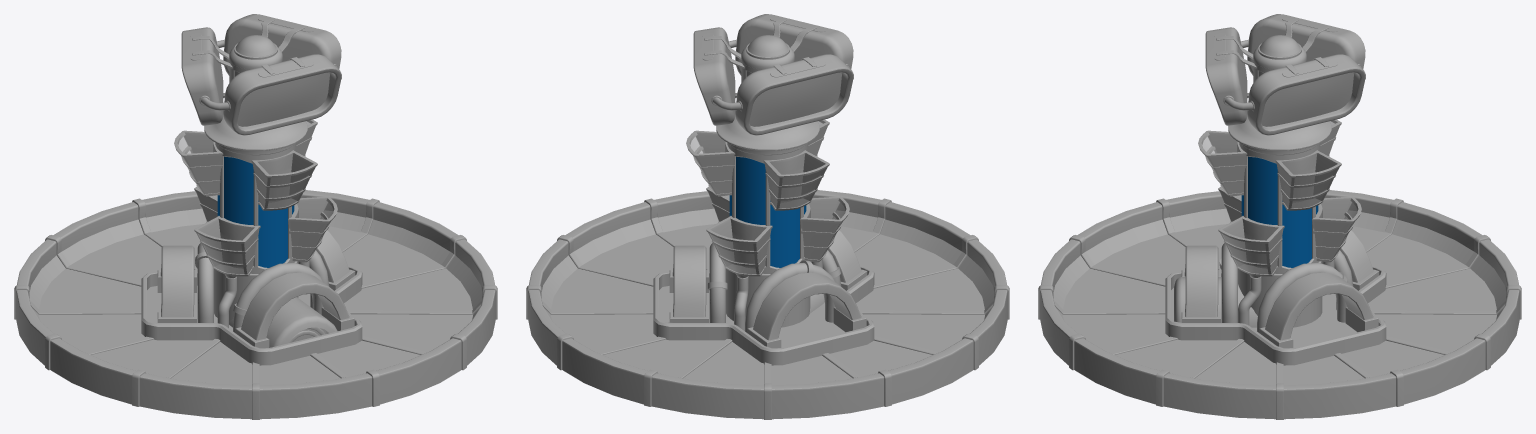
Rendered from SM_ATR_Fountain.fbx.
3 renders of one model, left to right at view 1: azimuth 30°, elevation 25°; view 2: azimuth 150°, elevation 25°; view 3: azimuth 270°, elevation 25°, orthographic.
Parts seen in each view (by area): view 1: _Base, _TV, _Turbine; view 2: _Base, _TV; view 3: _Base, _TV, _Turbine.
Boxes of the visible parts, box(x1,y1,x2,y2) form: _Base: box(14, 35, 497, 419); _TV: box(181, 14, 341, 135); _Turbine: box(229, 297, 337, 347); _Base: box(526, 35, 1009, 419); _TV: box(693, 14, 853, 135); _Base: box(1038, 35, 1521, 419); _TV: box(1205, 14, 1365, 135); _Turbine: box(1174, 277, 1257, 327).
Bounding box in the file's own units: 1776 × 1283 × 1776.
